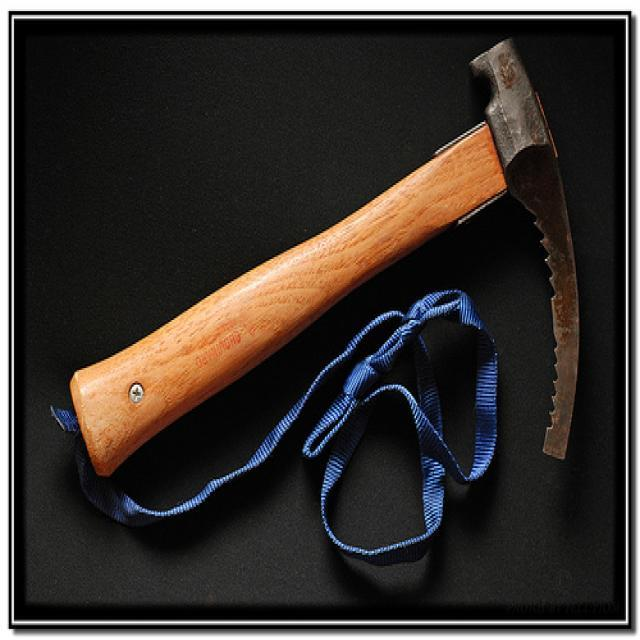hammer: (54, 30, 594, 548)
